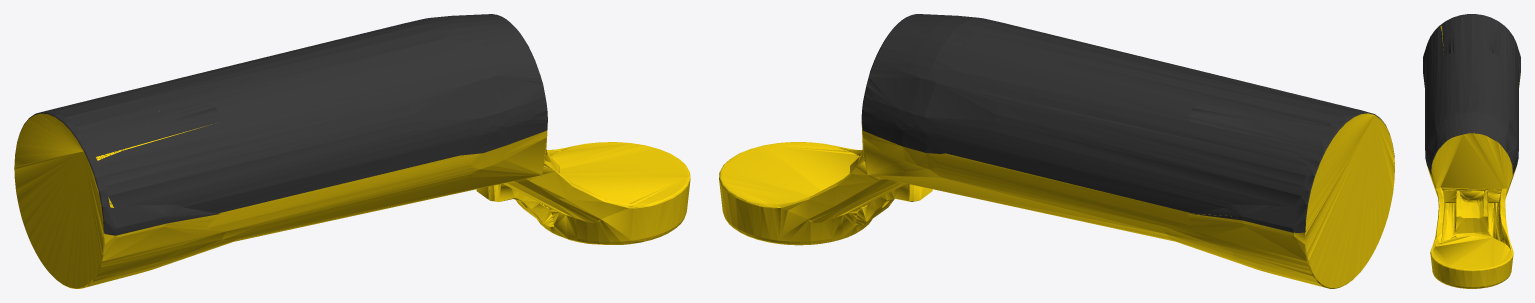
Rendered from arm_link_el1.obj.
The picture shows the model from 3 angles, left to right: view 1: azimuth 30°, elevation 25°; view 2: azimuth 150°, elevation 25°; view 3: azimuth 270°, elevation 25°; orthographic projection. The views are drawn at different scales.
Visible parts, largest first — view 1: arm0.link_el1.002_wrap, arm0.link_el1.002_BlackAbs; view 2: arm0.link_el1.002_wrap, arm0.link_el1.002_BlackAbs; view 3: arm0.link_el1.002_wrap, arm0.link_el1.002_BlackAbs.
Boxes of the visible parts, <box> form: arm0.link_el1.002_wrap: <box>17,14,547,235</box>; arm0.link_el1.002_BlackAbs: <box>14,113,690,288</box>; arm0.link_el1.002_wrap: <box>861,14,1394,232</box>; arm0.link_el1.002_BlackAbs: <box>719,113,1394,288</box>; arm0.link_el1.002_wrap: <box>1423,14,1520,174</box>; arm0.link_el1.002_BlackAbs: <box>1427,26,1520,288</box>.
Bounding box in the file's own units: 0.2973 × 0.1058 × 0.0782.
